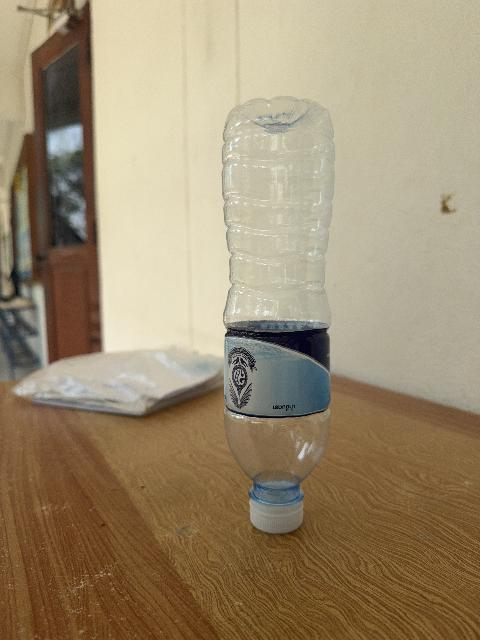bottle: (223, 97, 334, 533)
